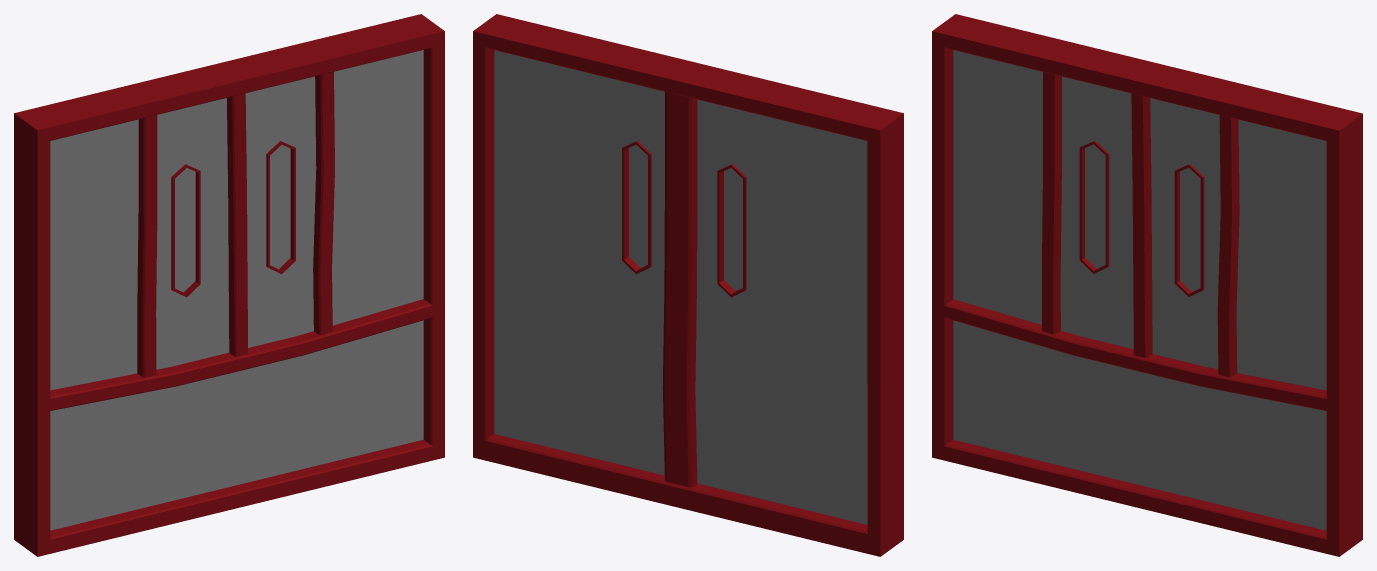
Rendered from SM_MH_01_Wood_01_Wall_Window_01.fbx.
3 renders of one model, left to right at view 1: azimuth 30°, elevation 25°; view 2: azimuth 150°, elevation 25°; view 3: azimuth 330°, elevation 25°, orthographic.
Visible parts, largest first — view 1: SM_MH_01_Wood_01_Wall_Window_01_LOD0, SM_MH_01_Wood_01_Wall_Window_01W_LOD0; view 2: SM_MH_01_Wood_01_Wall_Window_01_LOD0, SM_MH_01_Wood_01_Wall_Window_01W_LOD0; view 3: SM_MH_01_Wood_01_Wall_Window_01_LOD0, SM_MH_01_Wood_01_Wall_Window_01W_LOD0.
Part boxes in pixels (bbox=[...]): SM_MH_01_Wood_01_Wall_Window_01_LOD0: bbox=[14, 14, 444, 556]; SM_MH_01_Wood_01_Wall_Window_01W_LOD0: bbox=[175, 145, 290, 292]; SM_MH_01_Wood_01_Wall_Window_01_LOD0: bbox=[473, 14, 903, 556]; SM_MH_01_Wood_01_Wall_Window_01W_LOD0: bbox=[629, 145, 742, 290]; SM_MH_01_Wood_01_Wall_Window_01_LOD0: bbox=[932, 14, 1362, 556]; SM_MH_01_Wood_01_Wall_Window_01W_LOD0: bbox=[1085, 144, 1200, 291].
Size of what is drawn, in the model's own units: 300 by 300 by 30.
